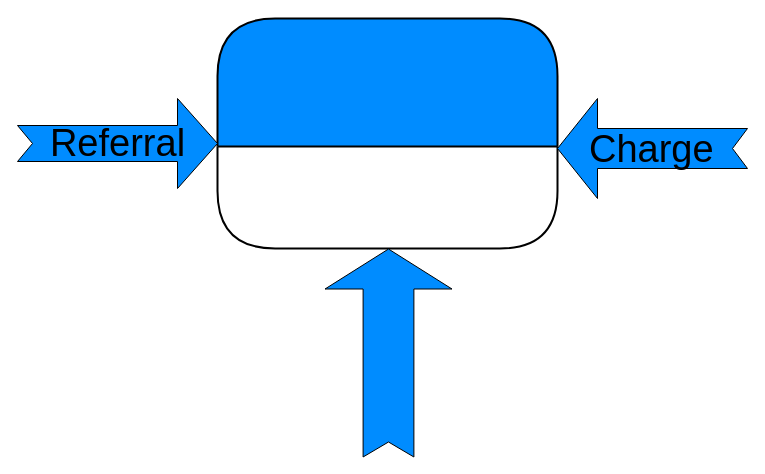
The diagram is 765 pixels wide and 474 high, and some of its shapes have lost their labels. The centre of each missing label's shape, as x and y in pixels:
Court Case: (387,133)
Summons: (388,352)
